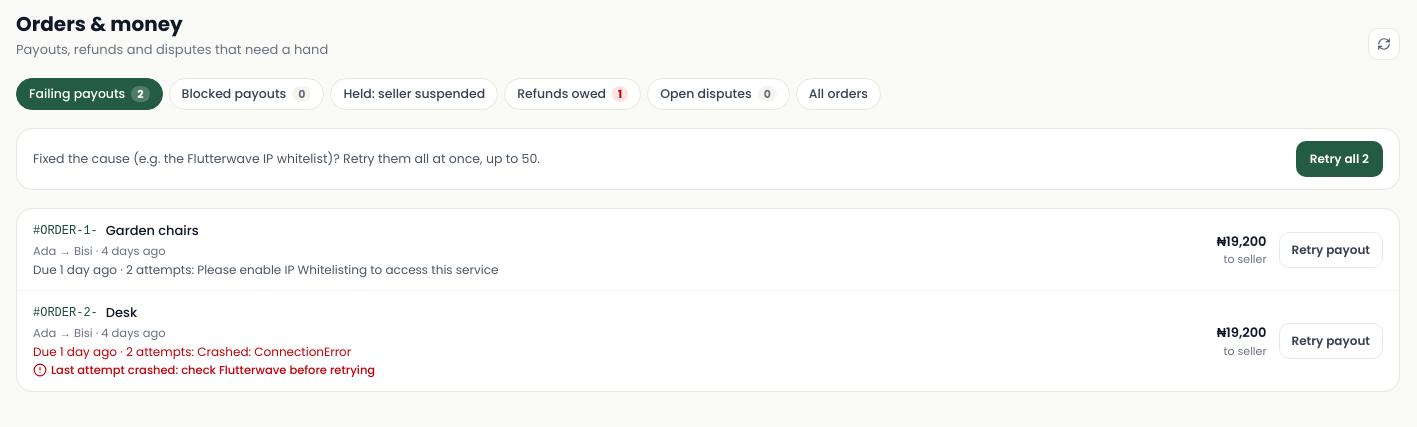
Test: AdminOrdersPage › retries one payout and shows the outcome
What coordinates should you click on to do the following:
click the button "Retry payout" in the row of "#ORDER-1-"
I would click on:
 (1331, 250)
Its box is top-left (1278, 232), bottom-right (1383, 268).
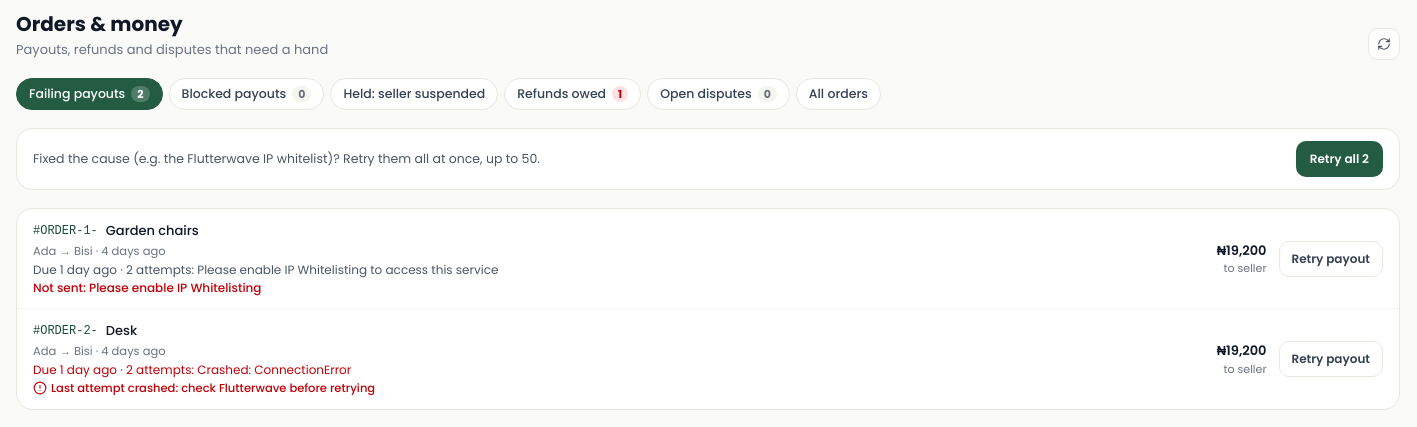
Check: the text "Not sent: Please enable IP Whitelisting" is shown, box top-left (33, 279), bottom-right (262, 296)
